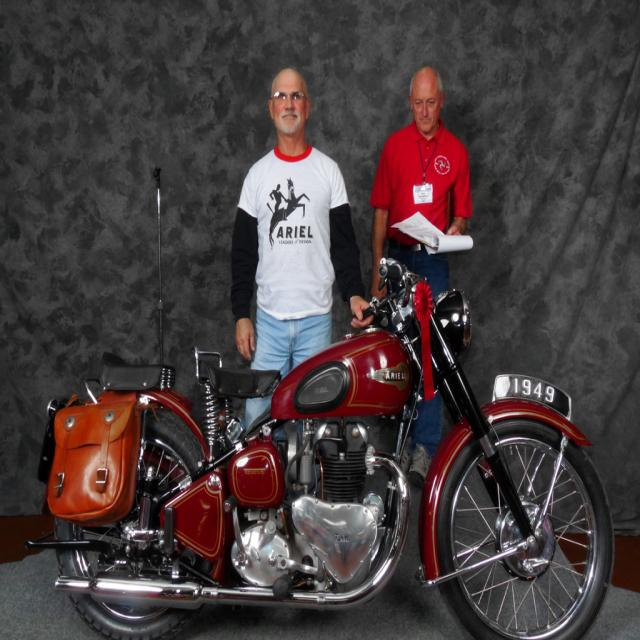Motorbikes: (26, 261, 615, 639)
